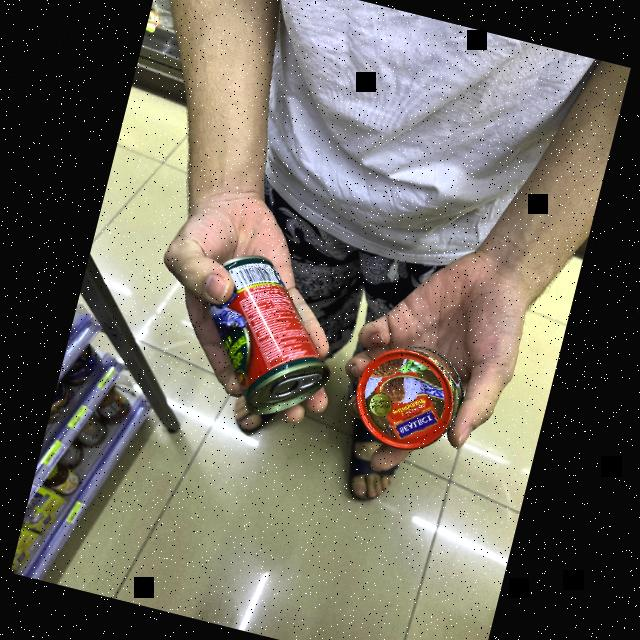can: (177, 238, 352, 424), (335, 322, 473, 468)
